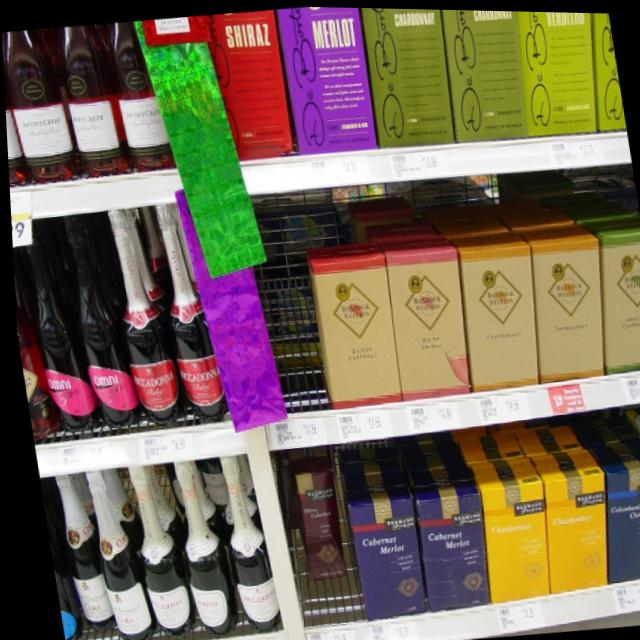q79: (92, 202, 183, 431), (148, 195, 230, 427)
